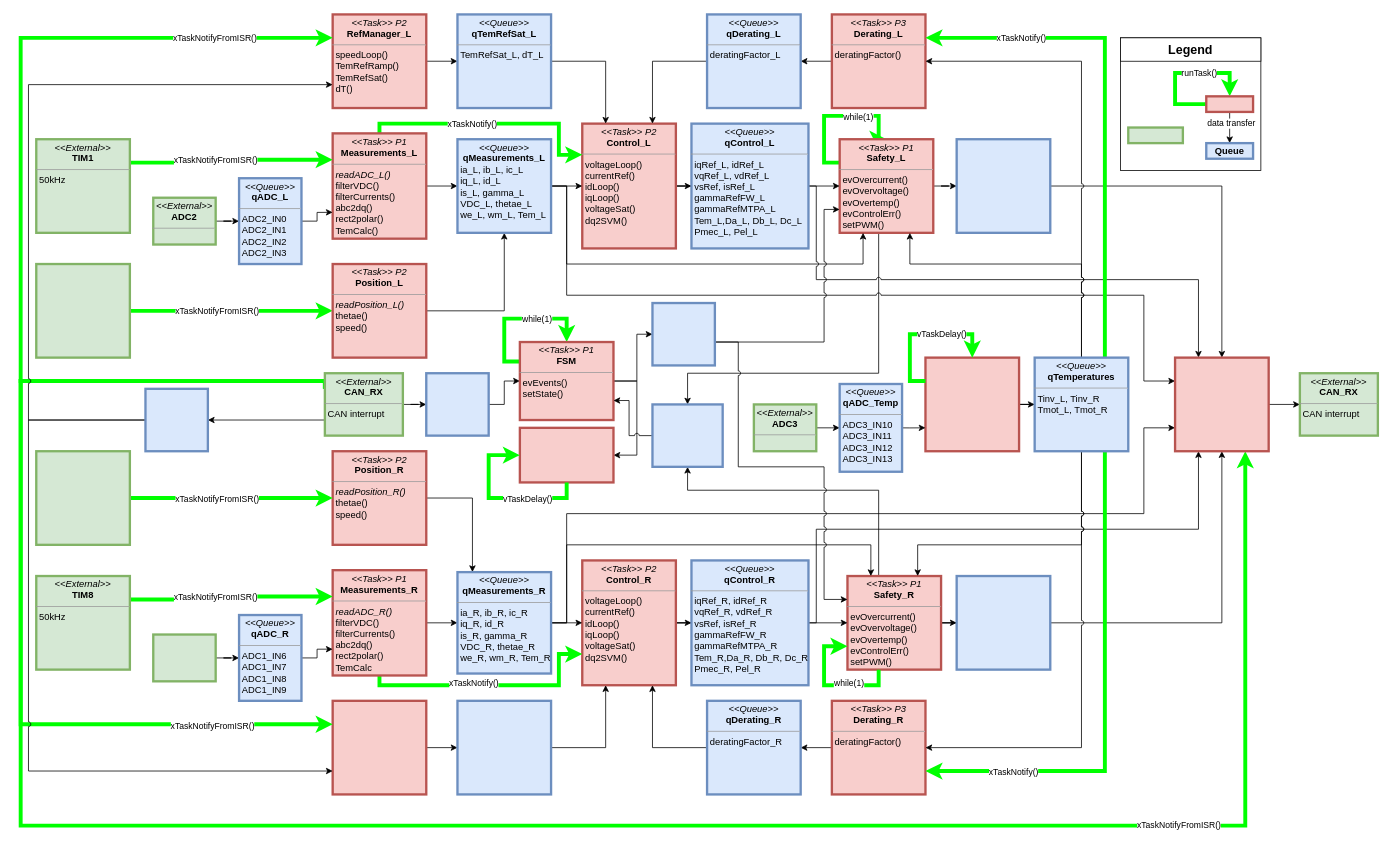
Image size: 1392x847. Some labels were removed from this diagram. The shapes that lost their labels are listed below. From the top down, each one's centre as x and y in pixels, then its label:
[1229,104]: Task
[1155,135]: Peripheral
[1003,186]: <<Queue>> qStatus_ L Overcurrent_L Overvoltage_L Overtemp_L Trip_L ControlErr_L
[83,310]: <<External>> TIM4 Input capture
[683,333]: <<Queue>> qFSM_State State_L State_R
[176,419]: <<Queue>> qTemRef TemRef_L TemRef_R
[457,404]: <<Queue>> qEnable Enable
[972,404]: <<Task>> P3 Temperatures readADC() filterTemperatures()
[1221,404]: <<Task>> P3 CAN_TX CAN_TX()
[566,454]: <<Task>> P4 LEDs LEDs()
[687,435]: <<Queue>> qFSM_Events Event_L Event_R
[83,498]: <<External>> TIM2 Input capture
[1003,622]: <<Queue>> qStatus_R Overcurrent_R Overvoltage_R Overtemp_R Trip_R ControlErr_R
[184,657]: <<External>> ADC1
[379,747]: <<Task>> P2 RefManager_ R speedLoop() TemRefRamp() TemRefSat() dT()
[504,747]: <<Queue>> qTemRefSat_ R TemRefSat_R, dT_R
